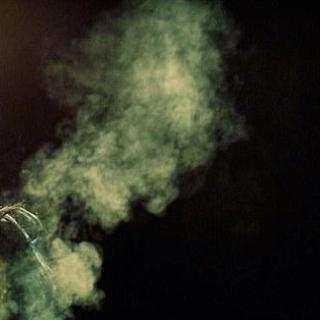smoke: (0, 0, 249, 320)
